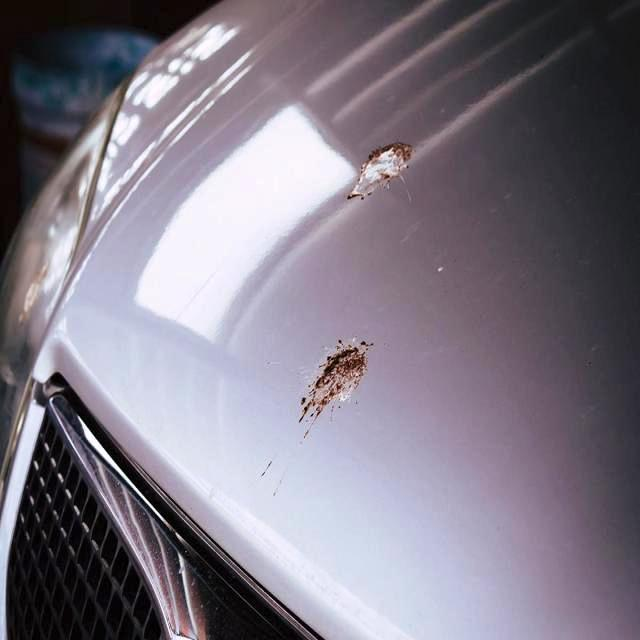Bird Poop: (299, 341, 371, 436), (348, 143, 413, 198)
